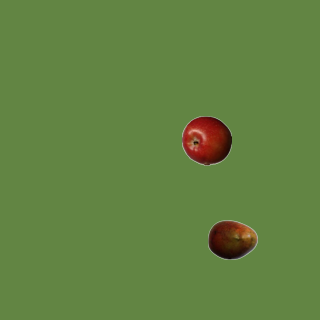Apple Braeburn: (181, 115, 231, 165)
Mango Red: (207, 214, 257, 264)
